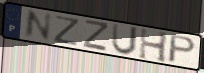H: (138, 27, 170, 65)
N: (23, 9, 54, 42)
P: (166, 34, 198, 65)
U: (110, 22, 141, 57)
Z: (52, 14, 82, 47), (82, 18, 110, 53)
